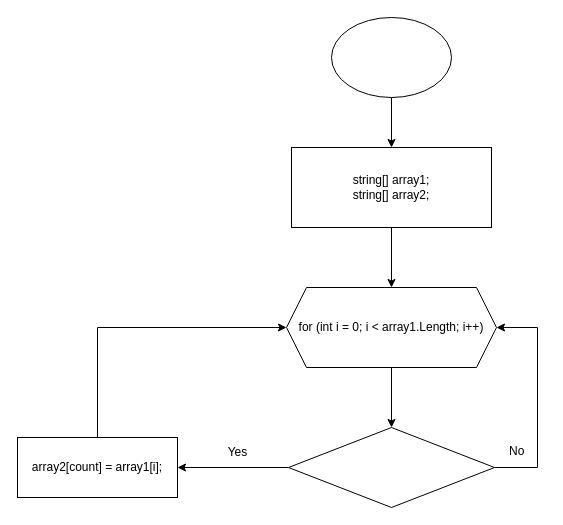
The diagram is 563 pixels wide and 525 high, and some of its shapes have lost their labels. The box of each missing label's shape, as (x1, y1, x2, y2) in pixels:
if(array1[i].Length <= 3): (288, 426, 494, 508)
Selected: (330, 16, 452, 98)
